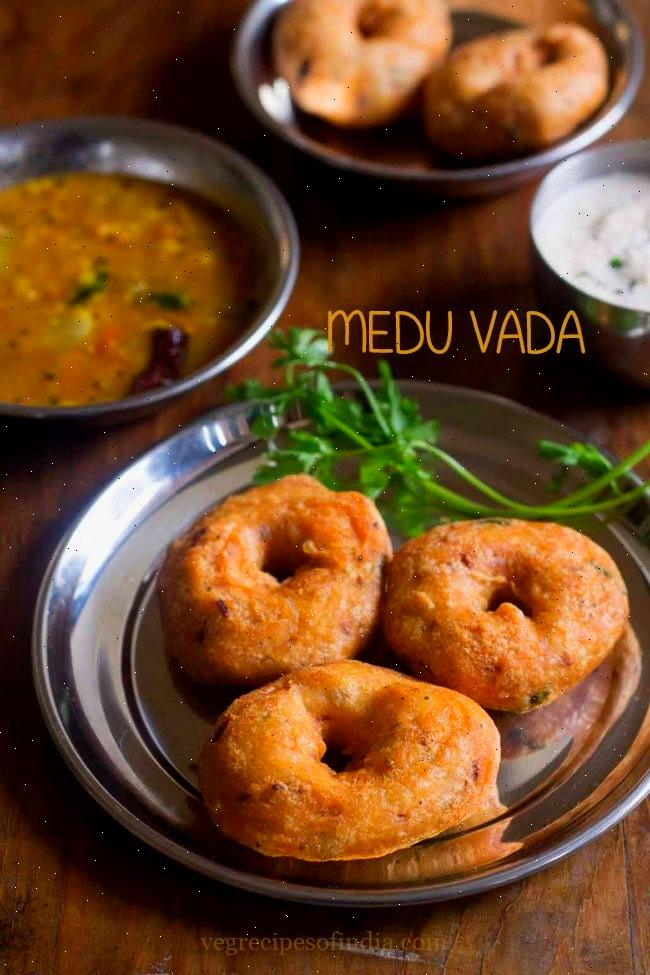medu vada: (145, 488, 626, 875)
